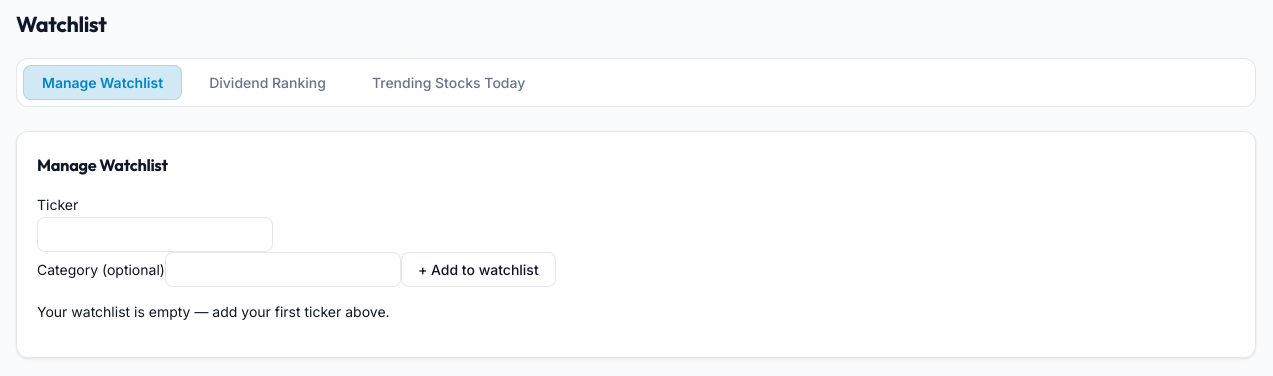
Test: WatchlistPage › switches to the Trending Stocks Today sub-tab and shows its content
Check: the text "Your watchlist is empty — add your first ticker above." is shown, box [37,302,390,320]
Click the button "Trending Stocks Today" at (449, 82), box [353,64,544,100]
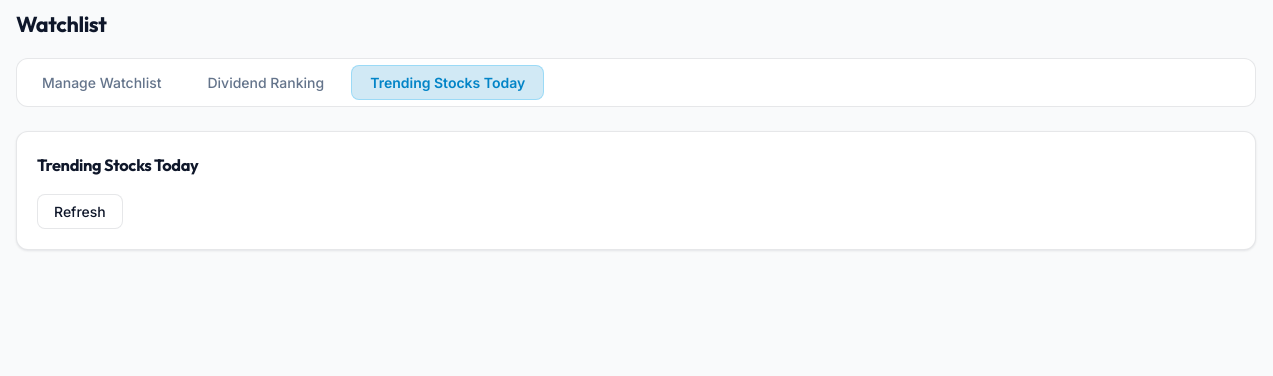
Check: the heading "Trending Stocks Today" is shown, box [37,154,198,174]
